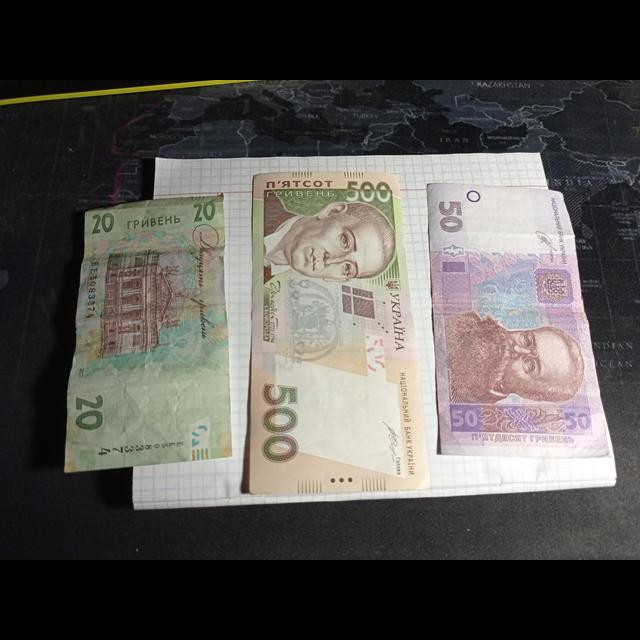20uah: (64, 194, 230, 474)
500uah: (249, 174, 430, 494)
50uah: (429, 184, 611, 455)
